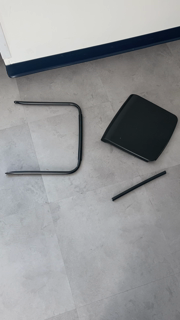C pipe: (7, 98, 87, 179)
Seat: (99, 92, 178, 166)
i pipe: (109, 168, 169, 206)
